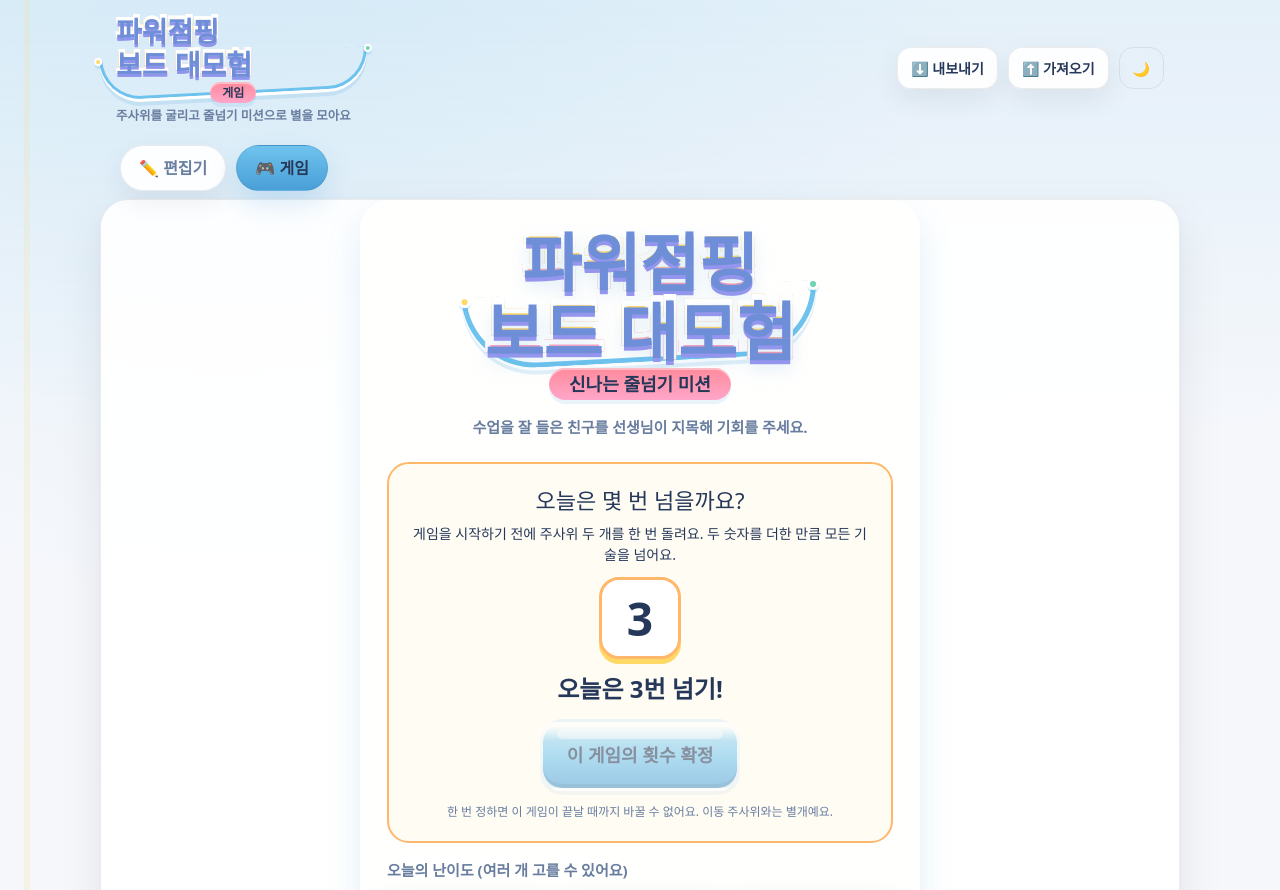
it: App shell (two-tab read-only viewer) › switches to the 이벤트 tab, showing the 4 seed events and a pill of 4
What coordinates should you click on to do the following:
click the button "✏️ 편집기"
I would click on:
 (173, 168)
Its box is [120,145,226,191].
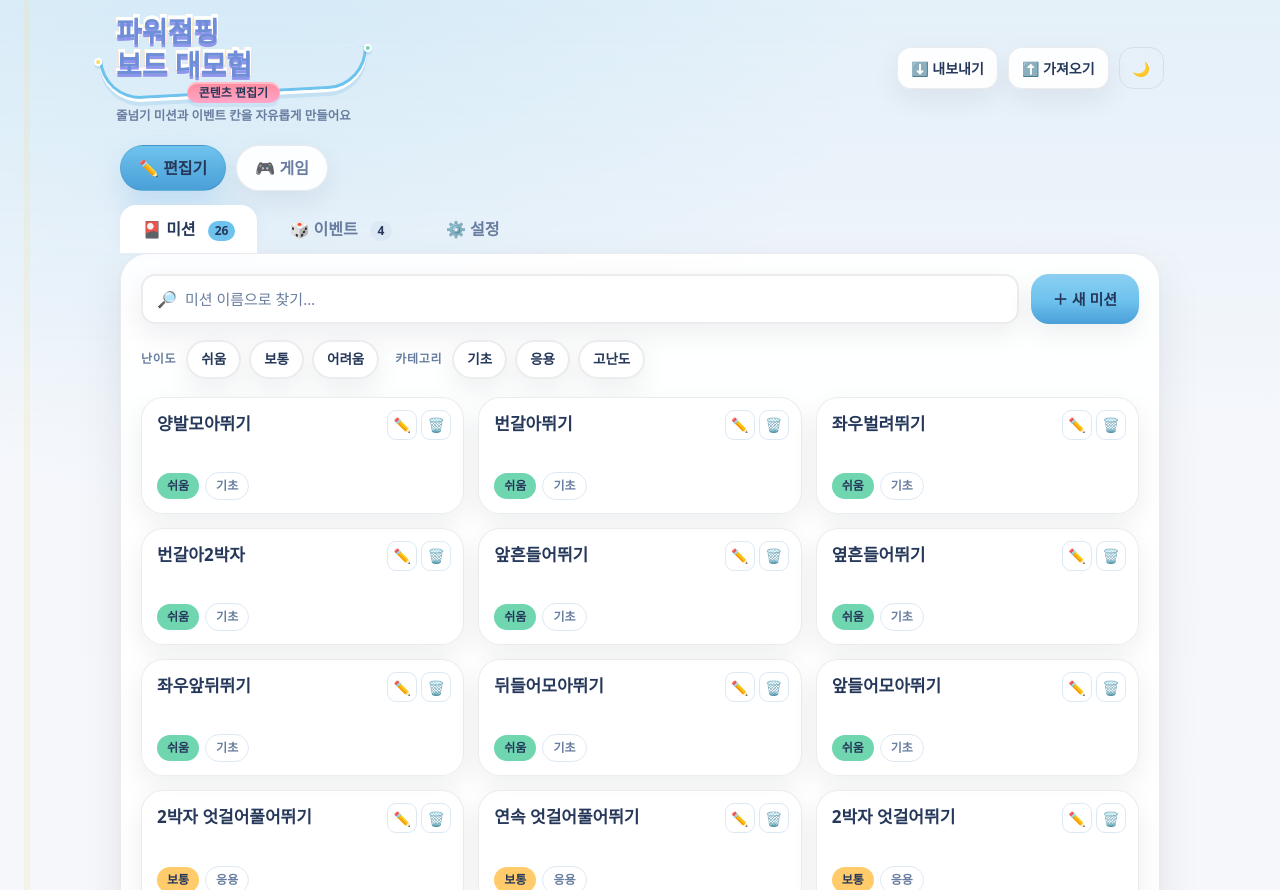
What coordinates should you click on to do the following:
click the tab "🎲 이벤트 4"
I would click on:
 (341, 229)
Its box is [268,205,414,253].
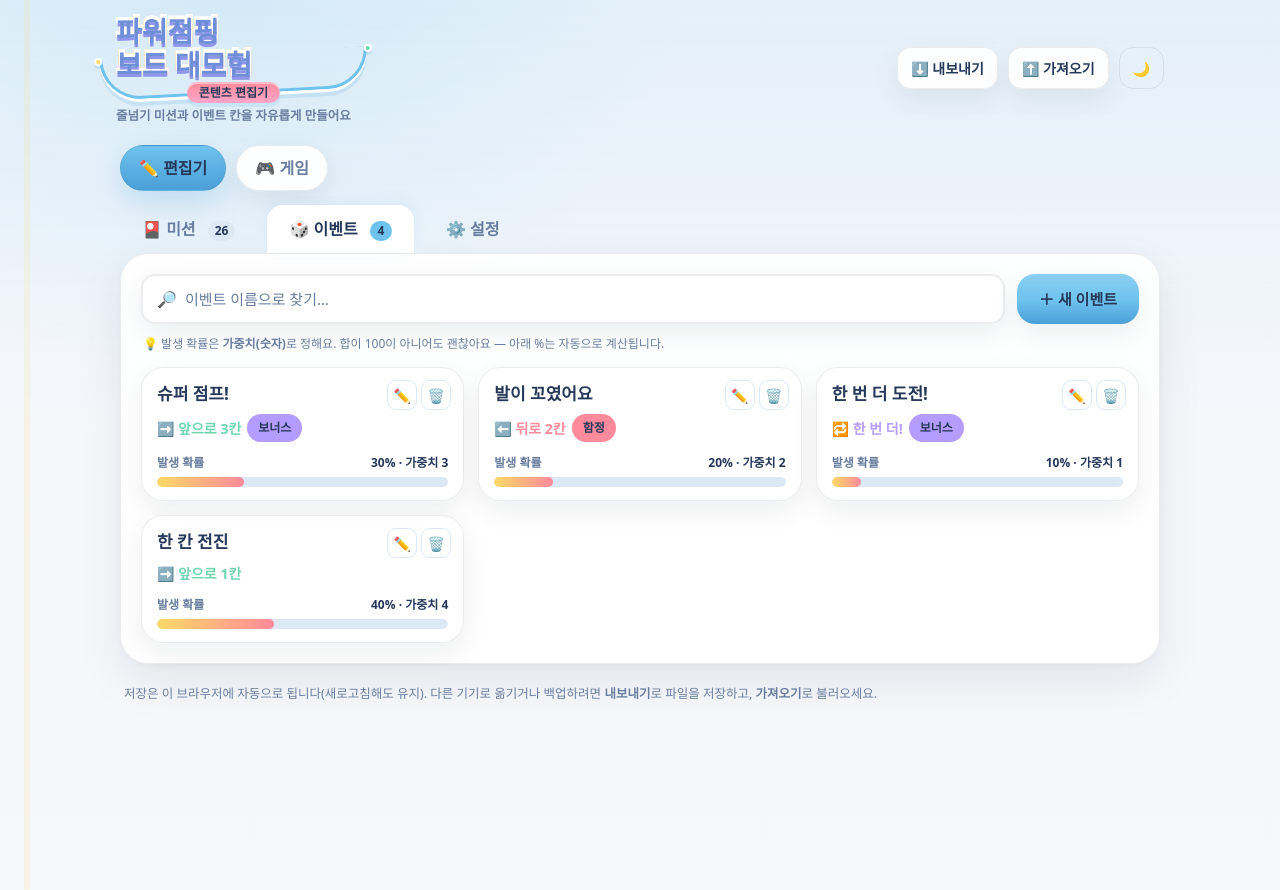
Expected: the text "슈퍼 점프!" is shown, [157,382,229,405]
Expected: the text "발이 꼬였어요" is shown, [494,382,593,405]
Expected: the text "한 번 더 도전!" is shown, [832,382,928,405]
